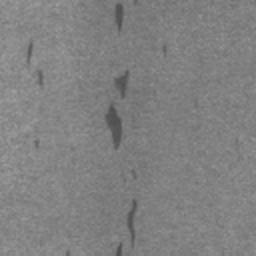Red iron sheet: (104, 101, 123, 150), (125, 200, 138, 246), (113, 69, 131, 100), (113, 1, 124, 32), (114, 242, 124, 256), (26, 41, 33, 60), (37, 69, 42, 86)
